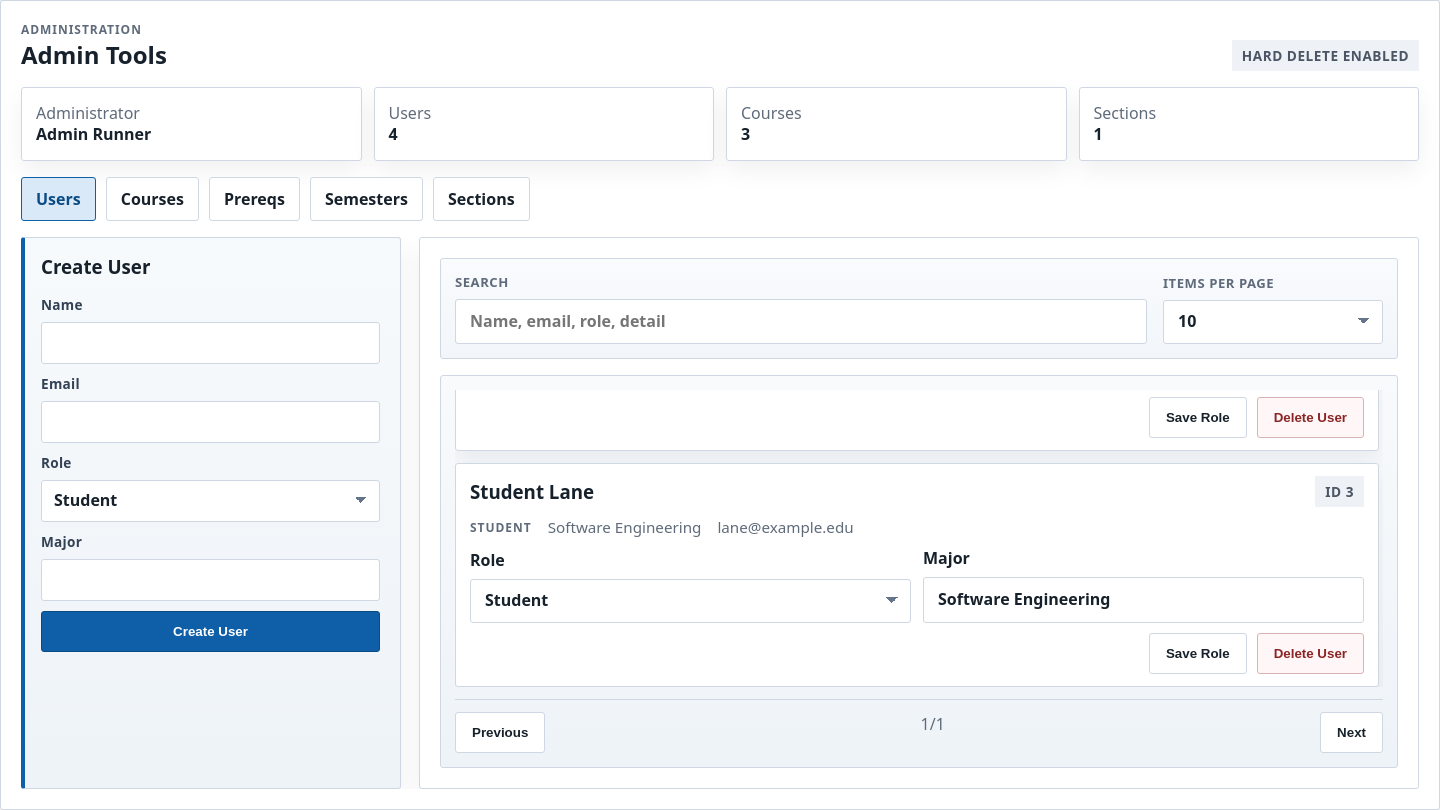
it: AdminConsolePage › updates a user role and shows success on that user card
The image size is (1440, 810).
(page scrolled)
Expected: the text "Student Lane" is shown, [470,479,594,504]
Select "Professor" in the dropdown labelled "Role" below "Software Engineering" at (690, 600), box [470,578,911,622]
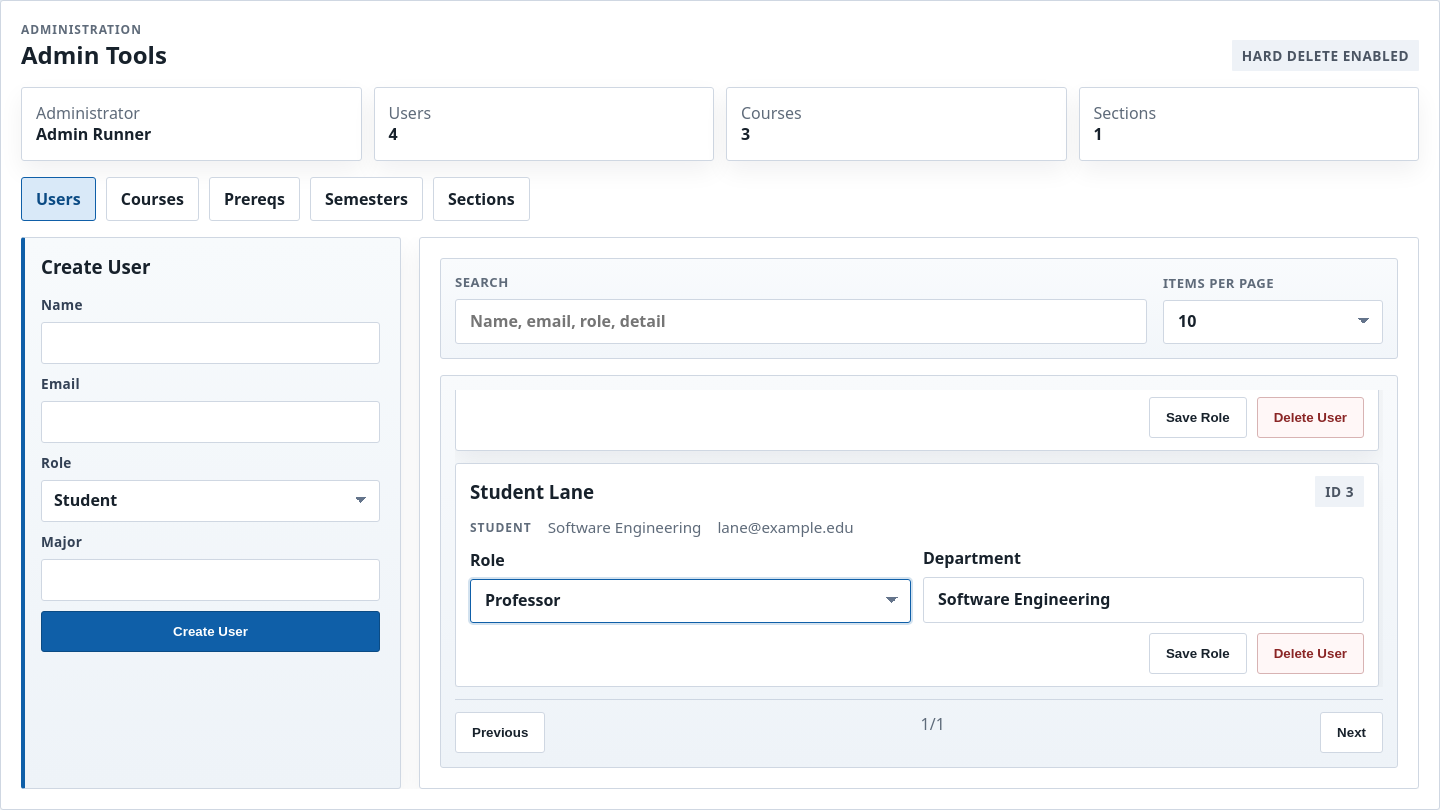
Replace the text in the field labelled "Department" with "Mathematics" at (1144, 600), box [923,577,1364,622]
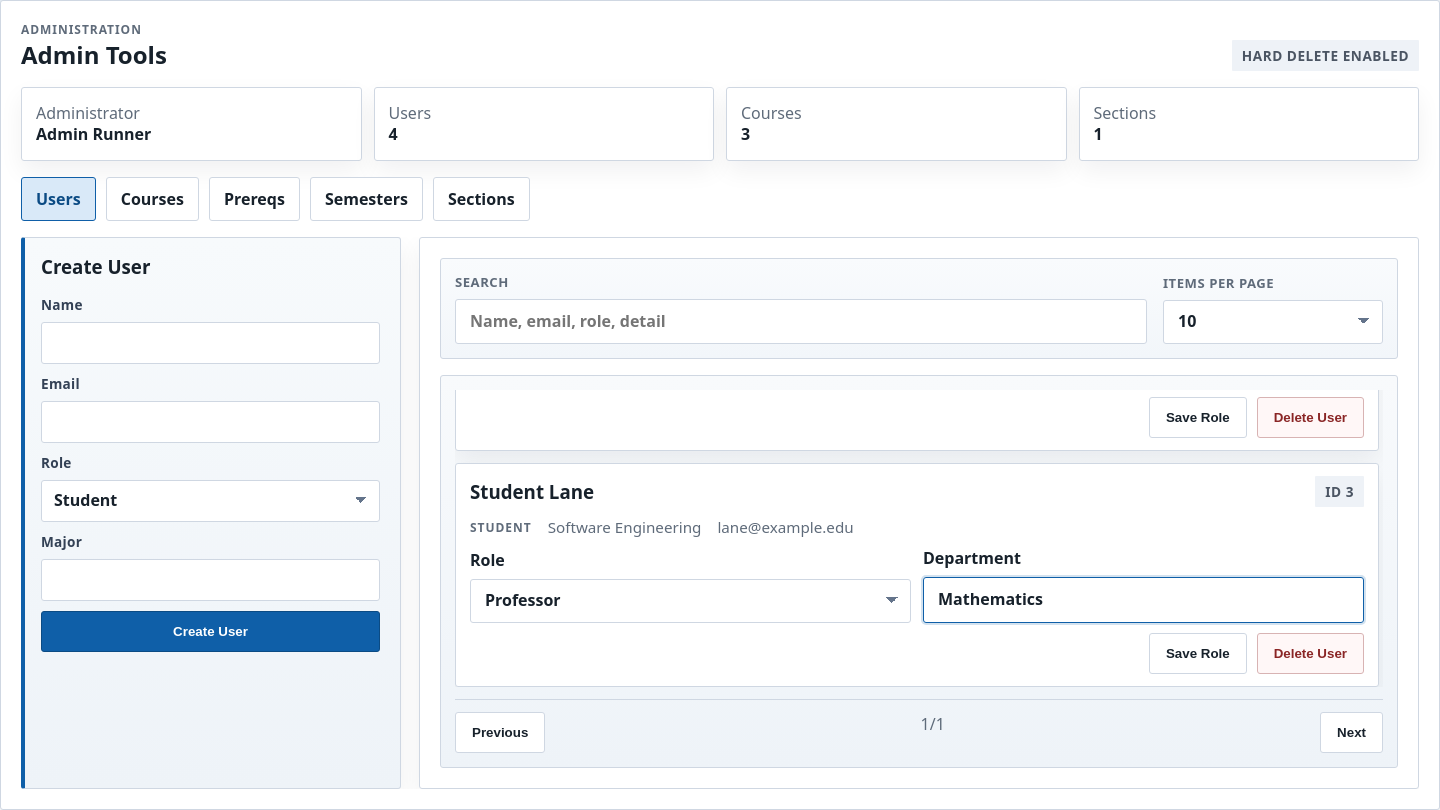
Click the button "Save Role" below "Department" at (1198, 653), box [1149,632,1247,674]
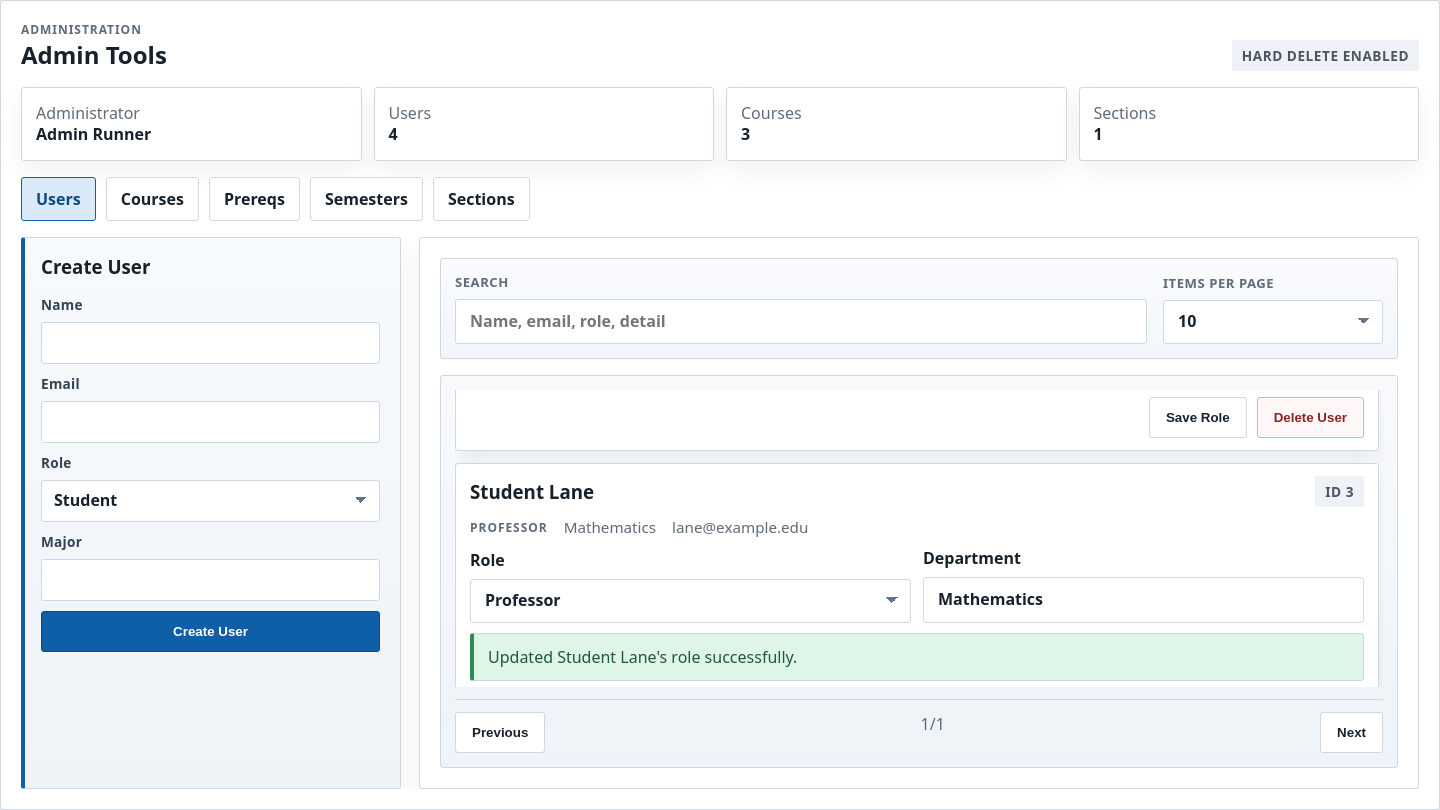
Expected: the text "Updated Student Lane's role successfully." is shown, [470,632,1364,680]
